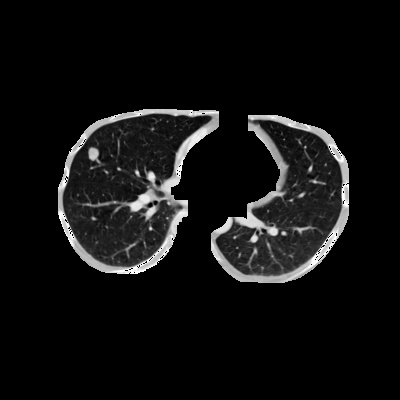PN: (87, 147, 99, 159)
